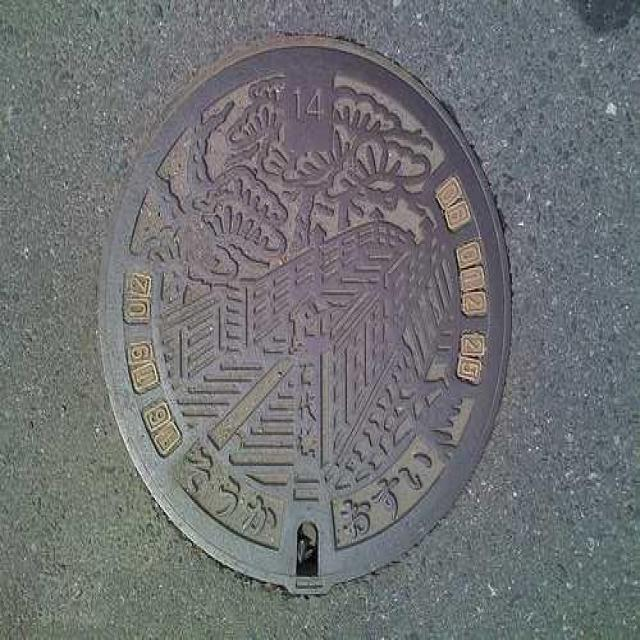manhole: (100, 37, 510, 593)
